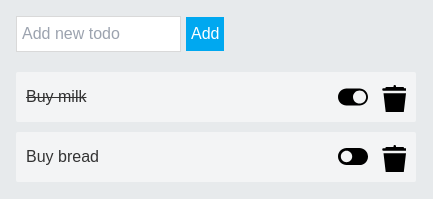
Test case: TodoApp › Todo App with initial data › deletes a todo item
expect the text "Buy bread" is shown: met, box [26,145,99,169]
Click the icon with test id "delete-icon-1": click(391, 157) [376,142,406,172]
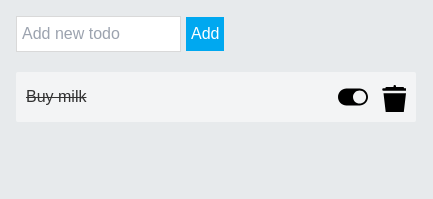
expect the text "Buy bread" is gone: met
